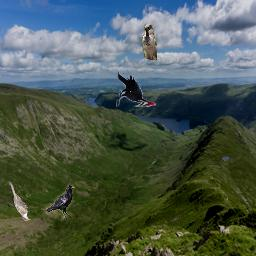Crow: (46, 185, 75, 220)
Cuckoo: (9, 181, 31, 221)
Sparrow: (142, 23, 157, 63)
Woodpecker: (116, 72, 156, 107)
